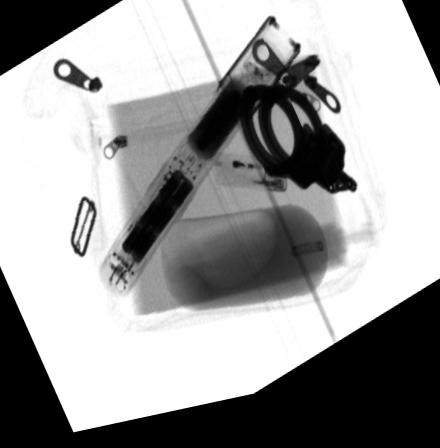Baton: (95, 29, 302, 303)
HandCuffs: (237, 93, 359, 210)
Lighter: (208, 162, 288, 206)
